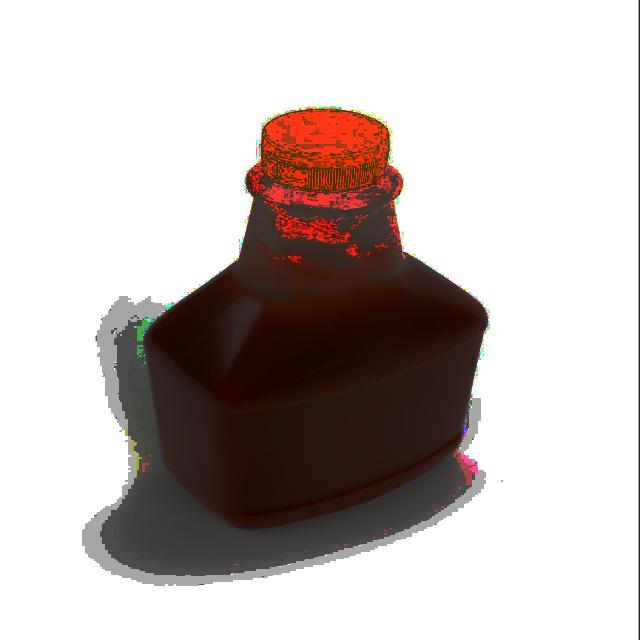ketchup: (135, 109, 493, 536)
